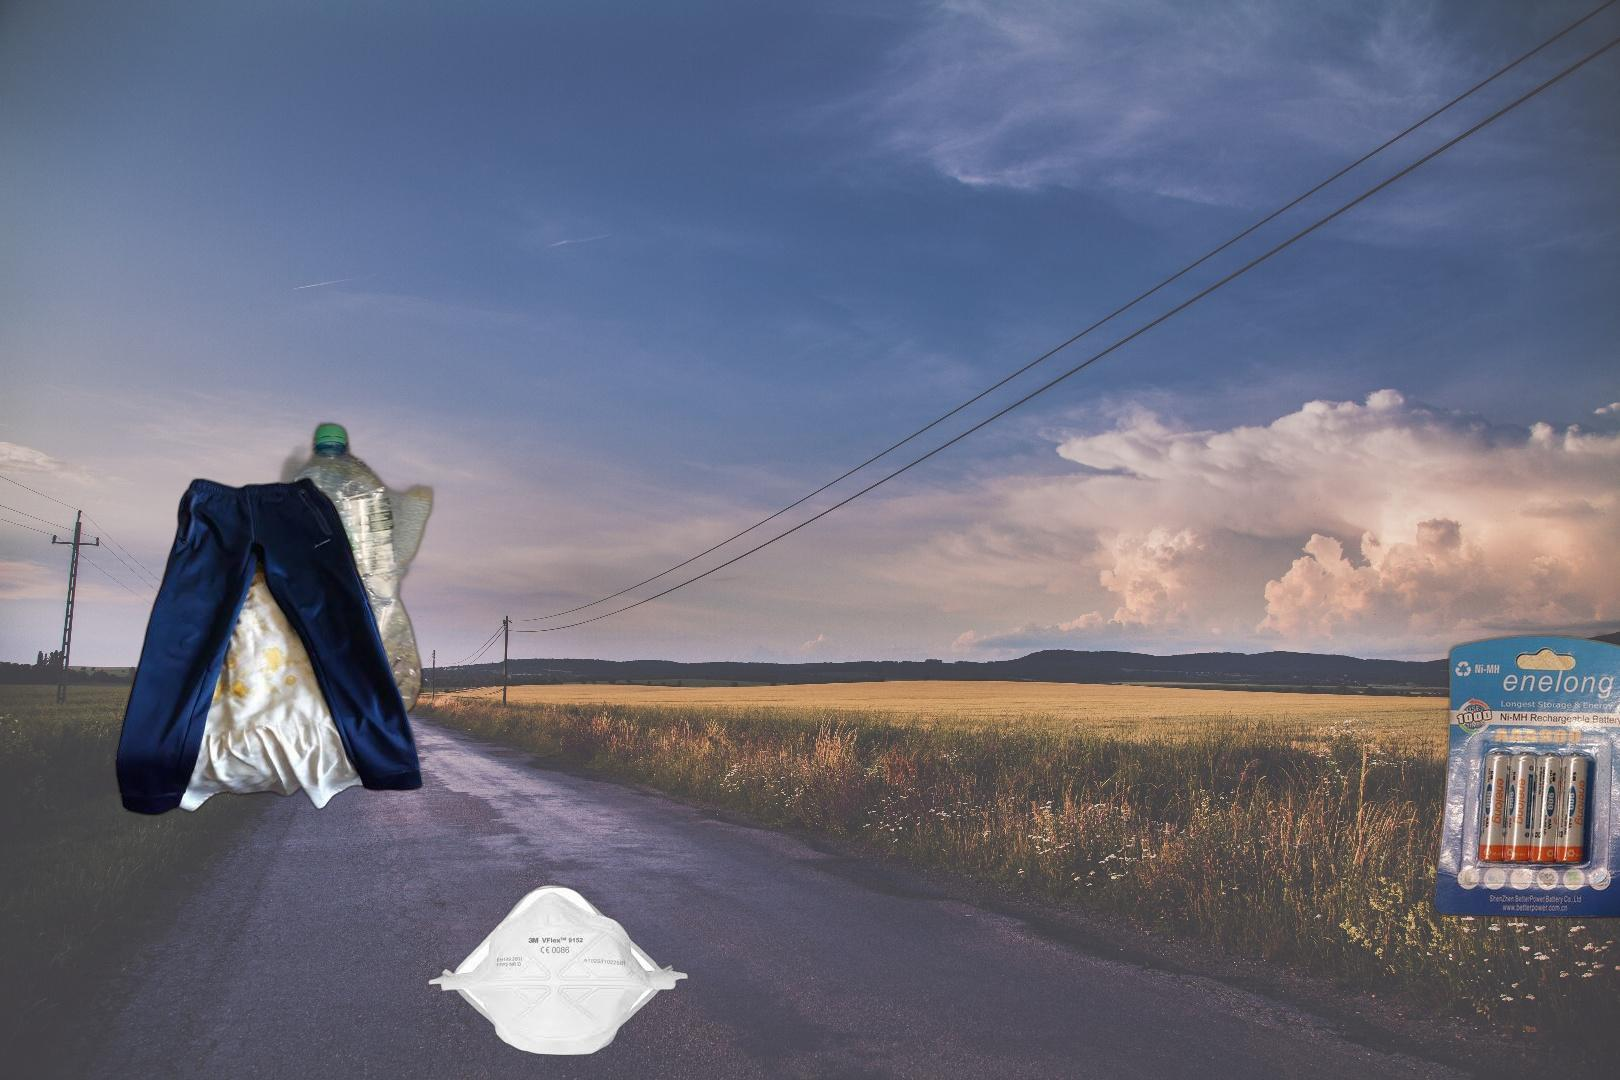battery: (1428, 630, 1620, 925)
clothes: (113, 472, 427, 820)
plastic-bottles: (240, 416, 441, 730)
trash: (424, 882, 691, 1058)
